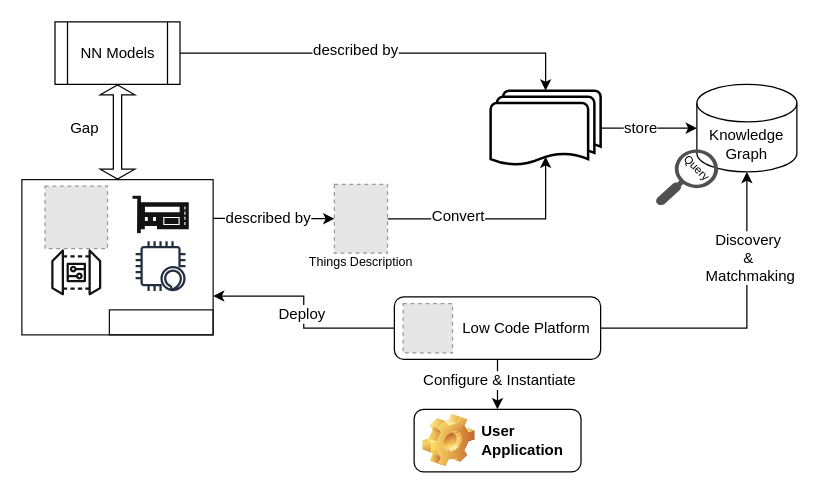
This 819x494 diagram has some shape labels left out. Grey dashed boxes stand in for pictures. Here are the shapes that lost their labels. From the top down, the centre of each, then its label:
At (x=545, y=127): "Semantic Description".
At (x=160, y=322): "Edge Devices".
